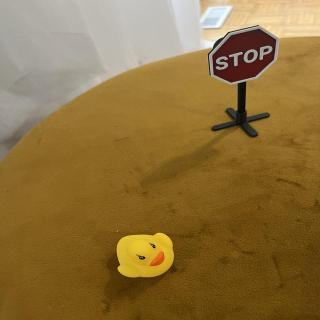duck_regular: (114, 233, 177, 282)
sign_stop: (207, 25, 282, 88)
